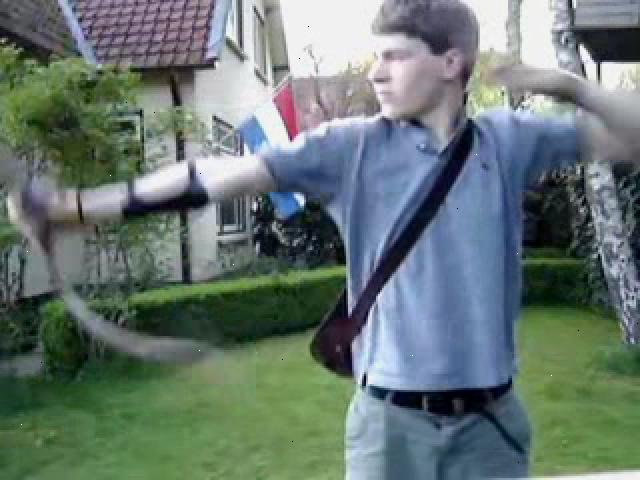P: (0, 5, 537, 478)
